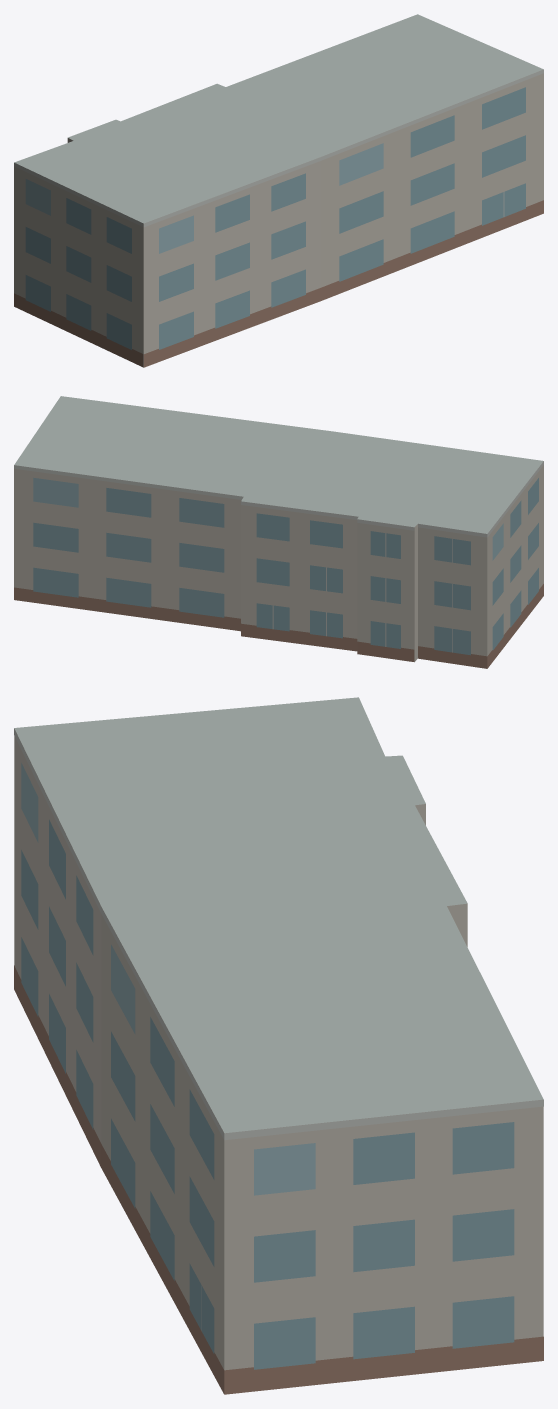
File: survey-upis-32935312.glb
3 views of the same model, one above another, from view 1: azimuth 30°, elevation 25°; view 2: azimuth 150°, elevation 25°; view 3: azimuth 270°, elevation 25° (orthographic). The views are drawn at different scales.
Visible parts, largest first — view 1: survey-upis-32935312.tmp; view 2: survey-upis-32935312.tmp; view 3: survey-upis-32935312.tmp.
Part boxes in pixels (<box>): survey-upis-32935312.tmp: <box>14,14,543,367</box>; survey-upis-32935312.tmp: <box>14,396,543,668</box>; survey-upis-32935312.tmp: <box>14,697,543,1394</box>.
Bounding box in the file's own units: 32.75 × 9.15 × 16.82.
